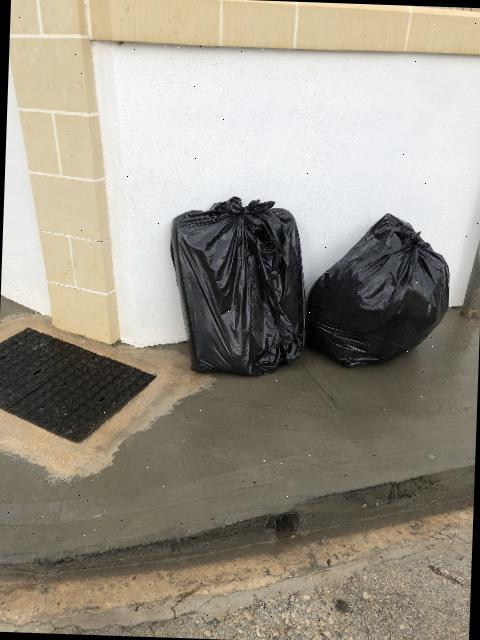Mixed -Black-: (171, 197, 306, 376), (308, 214, 449, 368)
